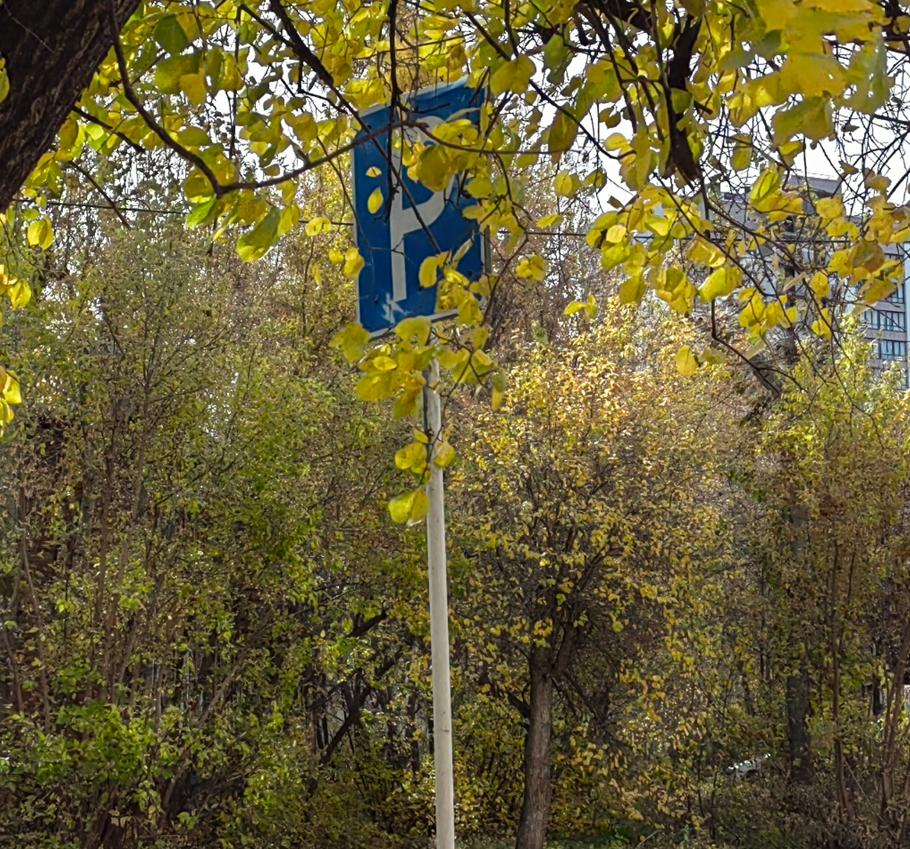obstructed_road_sign: (349, 68, 484, 337)
